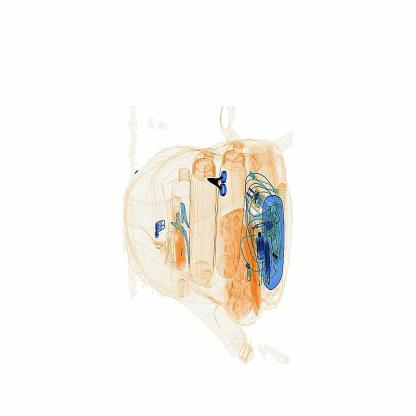gun: (196, 162, 241, 198)
